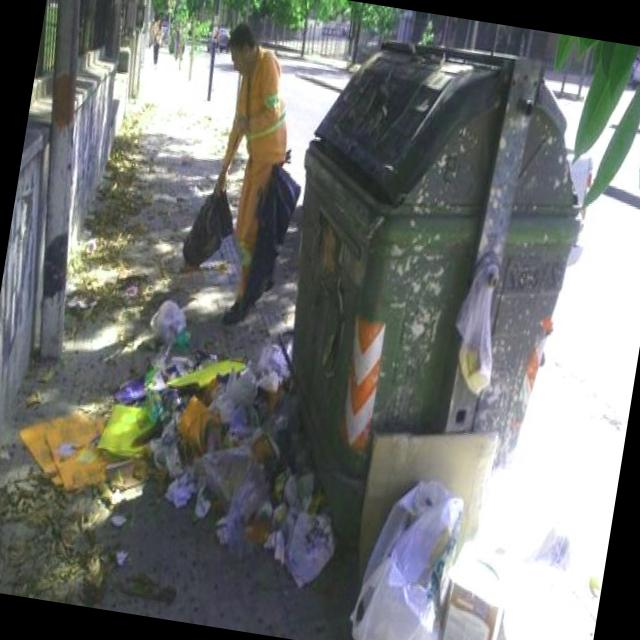high trash: (20, 344, 502, 640)
less trash: (150, 300, 187, 344)
